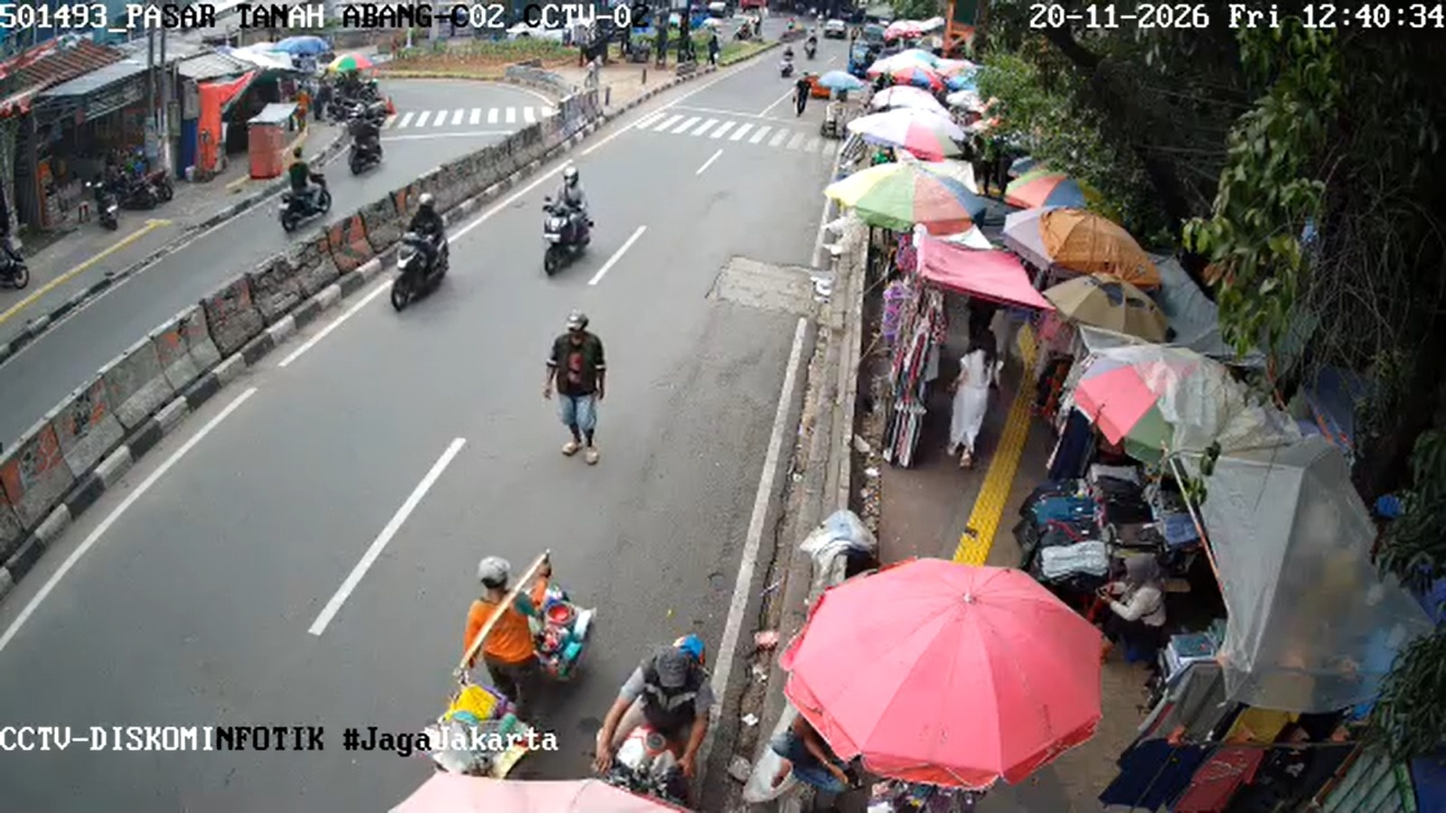Gerobak: (239, 102, 304, 179)
